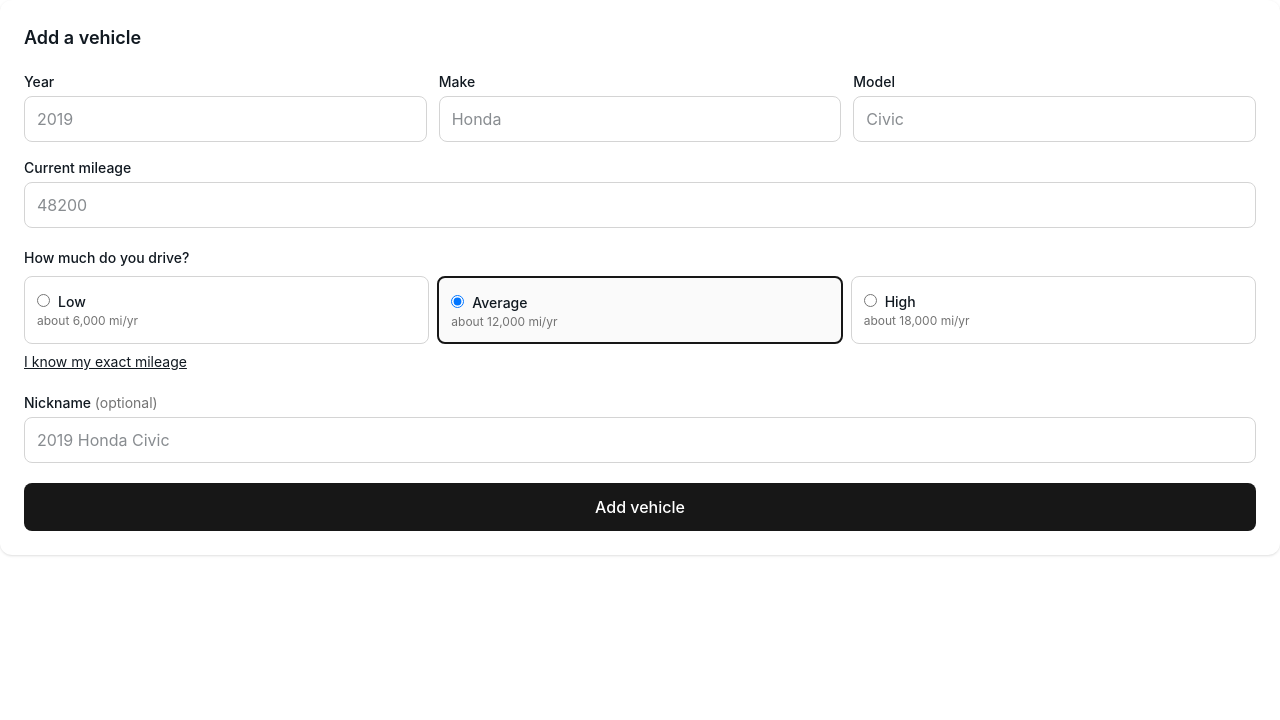
Test: AddVehicleForm › rejects negative mileage
This screenshot has width=1280, height=720.
Type "-5" into the field labelled "Current mileage" at [640, 205], box [24, 182, 1256, 228]
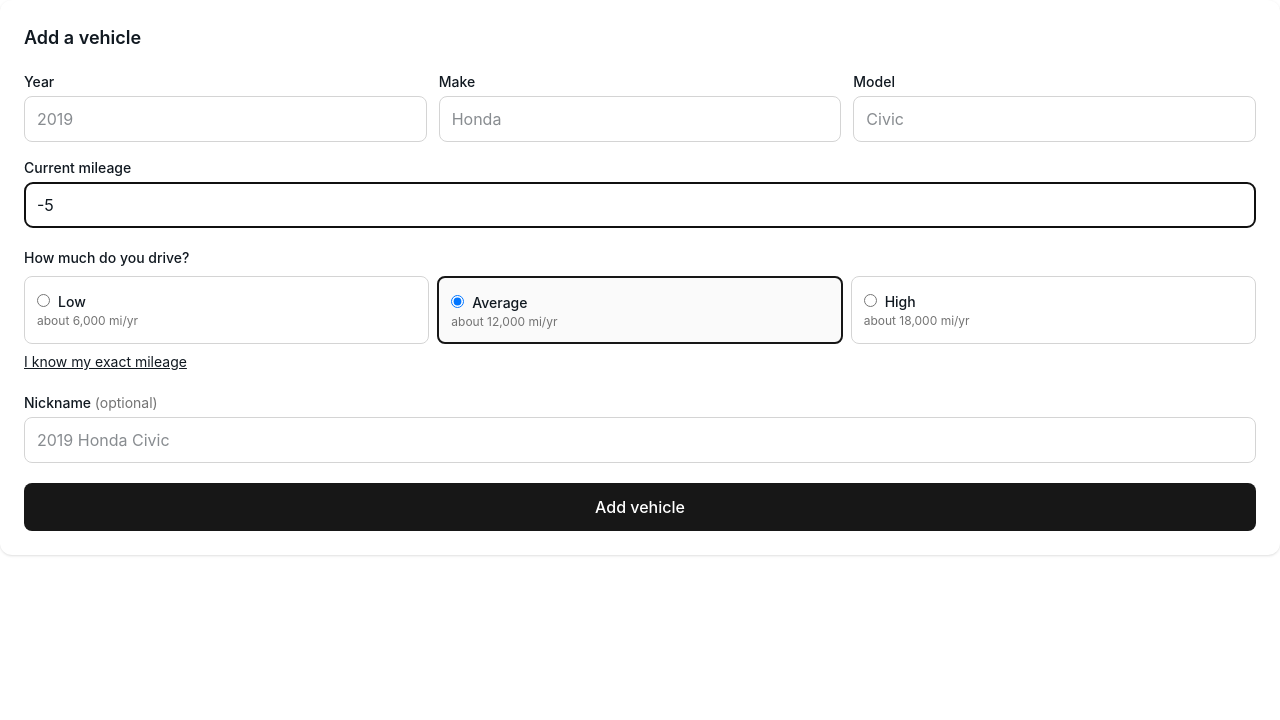
Click the button "Add vehicle" at [640, 507], box [24, 483, 1256, 531]
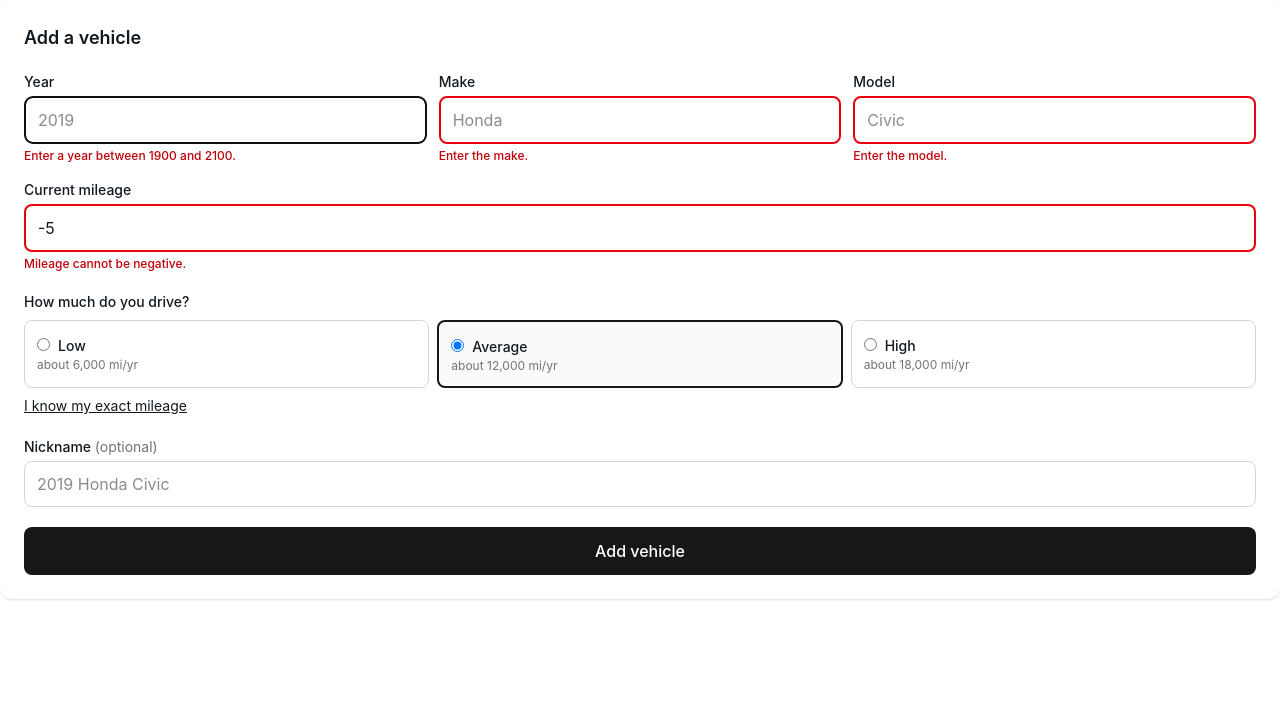
Result: the text "Mileage cannot be negative." is shown at [24, 256, 186, 271]
